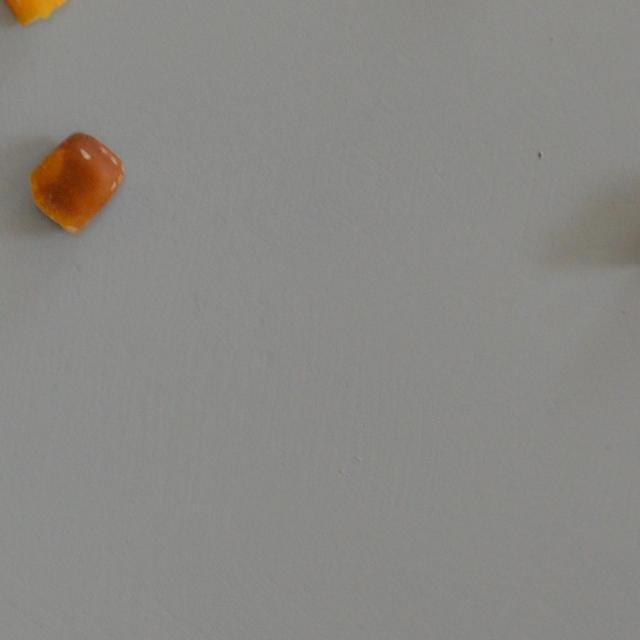dañado: (22, 125, 128, 240), (0, 0, 74, 30)
